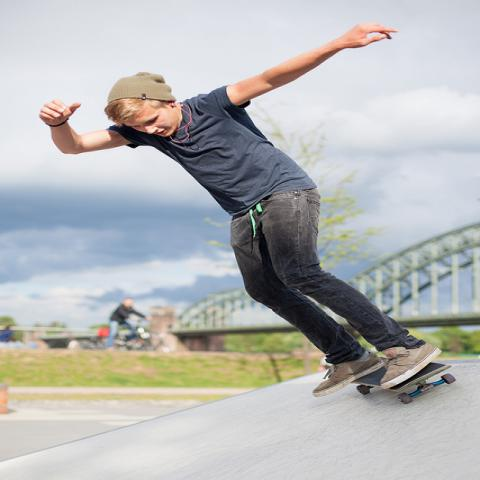motorcycle: (89, 319, 171, 352)
